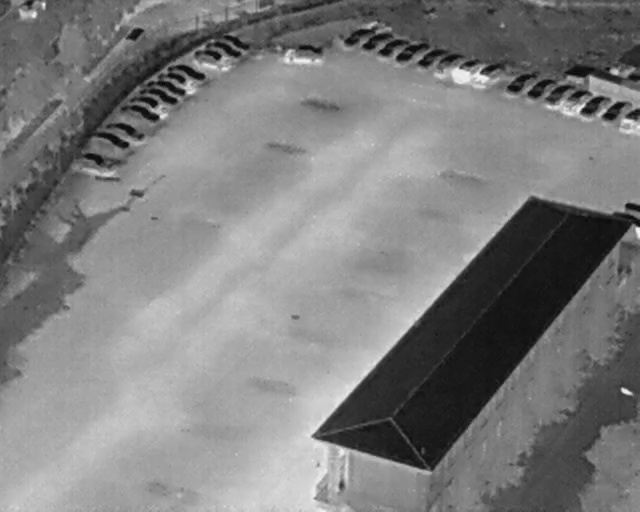Car: (115, 96, 162, 124), (73, 149, 118, 177), (86, 125, 131, 153), (103, 114, 148, 142), (191, 44, 233, 73), (393, 35, 428, 69), (577, 87, 611, 122), (374, 30, 408, 63), (450, 51, 484, 84), (505, 64, 538, 98), (472, 56, 505, 88), (599, 94, 631, 127), (167, 58, 208, 83), (416, 41, 448, 73), (138, 82, 180, 106), (560, 82, 591, 114), (148, 75, 191, 98), (127, 89, 166, 114), (360, 25, 393, 54), (205, 36, 244, 60), (526, 71, 556, 102), (544, 77, 574, 108), (434, 48, 462, 75), (284, 46, 325, 64), (156, 66, 189, 88), (343, 23, 369, 49), (223, 32, 250, 51), (620, 107, 639, 133), (125, 22, 145, 44)
